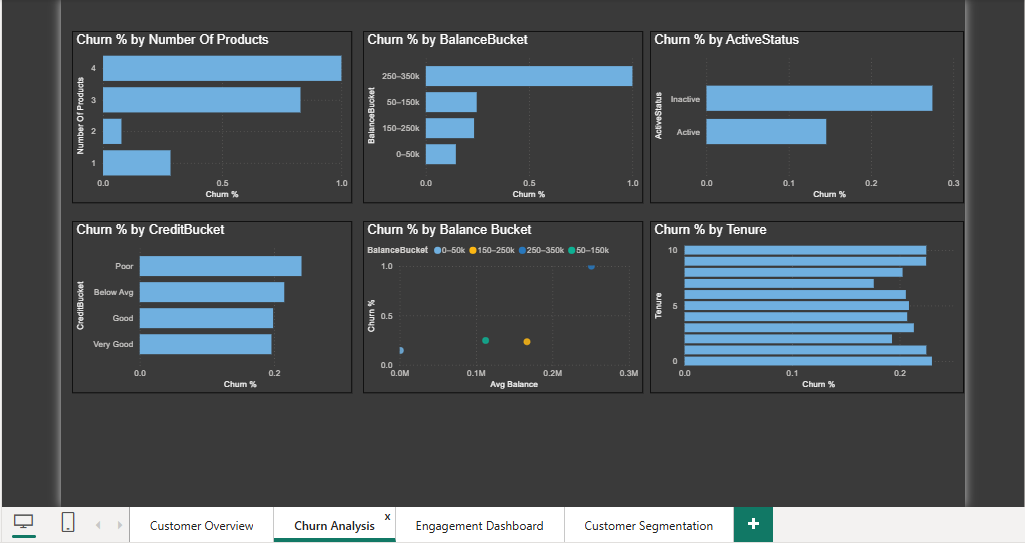

The page's visual inventory and layout, read from the dashboard file:
{"tool":"powerbi","page":{"name":"Churn Analysis","canvas":[1280,720],"ordinal":1},"visuals":[{"type":"barChart","fields":{"Y":["Customers_Cleaned.Churn %"],"Category":["Customers_Cleaned.NumOfProducts"]},"box":[15.6,45.4,396.9,243.8],"z":0},{"type":"barChart","fields":{"Category":["Customers_Cleaned.ActiveStatus"],"Y":["Customers_Cleaned.Churn %"]},"box":[834.8,45.4,445,243.8],"z":1000},{"type":"barChart","fields":{"Y":["Customers_Cleaned.Churn %"],"Category":["Customers_Cleaned.CreditBucket"]},"box":[15.6,314.6,396.9,243.8],"z":2000},{"type":"barChart","fields":{"Y":["Customers_Cleaned.Churn %"],"Category":["Customers_Cleaned.Tenure"]},"box":[834.8,314.6,445,243.8],"z":3000},{"type":"barChart","fields":{"Y":["Customers_Cleaned.Churn %"],"Category":["Customers_Cleaned.BalanceBucket"]},"box":[428,45.4,396.9,243.8],"z":4000},{"type":"scatterChart","title":"Churn % by Balance Bucket","fields":{"X":["Customers_Cleaned.Avg Balance"],"Y":["Customers_Cleaned.Churn %"],"Series":["Customers_Cleaned.BalanceBucket"]},"box":[428,314.6,396.9,243.8],"z":5000}]}

Visuals, with their boxes on the page's 1280x720 design canvas (x1, y1, x2, y2). These are canvas units, not pixel positions in the 1025x543 screenshot, which may show the page scaled, cropped or inside an application window:
barChart - Customers_Cleaned.Churn % x Customers_Cleaned.NumOfProducts: bbox(16, 45, 412, 289)
barChart - Customers_Cleaned.ActiveStatus x Customers_Cleaned.Churn %: bbox(835, 45, 1280, 289)
barChart - Customers_Cleaned.Churn % x Customers_Cleaned.CreditBucket: bbox(16, 315, 412, 558)
barChart - Customers_Cleaned.Churn % x Customers_Cleaned.Tenure: bbox(835, 315, 1280, 558)
barChart - Customers_Cleaned.Churn % x Customers_Cleaned.BalanceBucket: bbox(428, 45, 825, 289)
"Churn % by Balance Bucket" scatterChart: bbox(428, 315, 825, 558)
